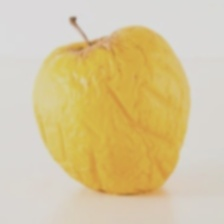apple: (2, 61, 203, 204)
